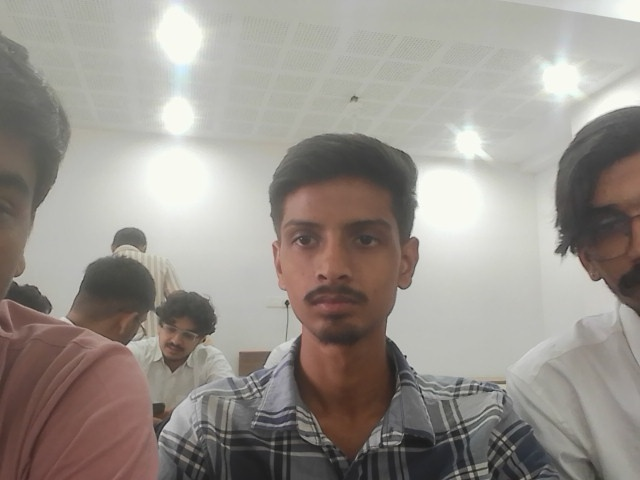light_on: (151, 87, 203, 133), (446, 119, 490, 157), (538, 62, 559, 87), (615, 5, 636, 25)
person: (0, 45, 163, 478), (520, 105, 639, 479), (128, 290, 235, 432), (64, 254, 155, 344), (129, 205, 193, 311), (11, 283, 50, 314)
